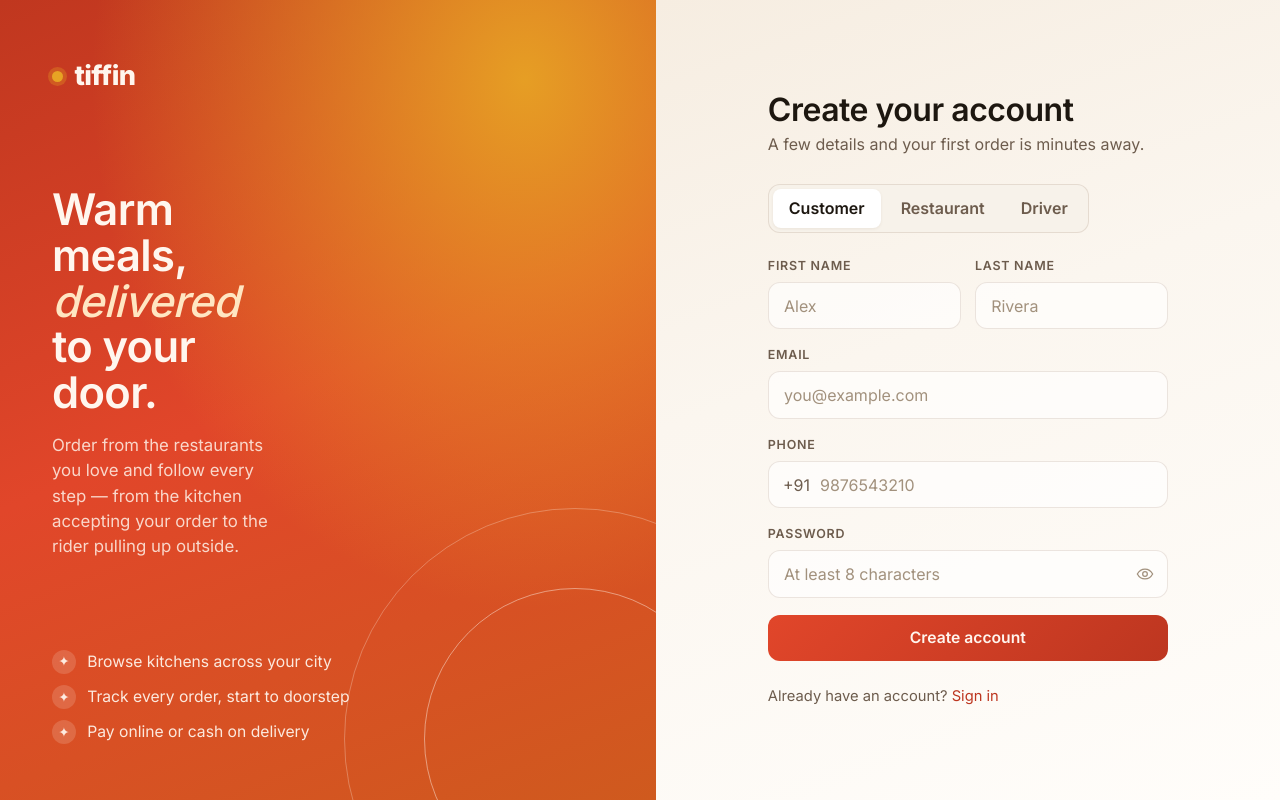
Test: password reveal toggle › reveals the password field on the register page
What coordinates should you click on to do the following:
click the button named "show password"
I would click on:
 (1145, 574)
Its box is [1129,557,1162,591].
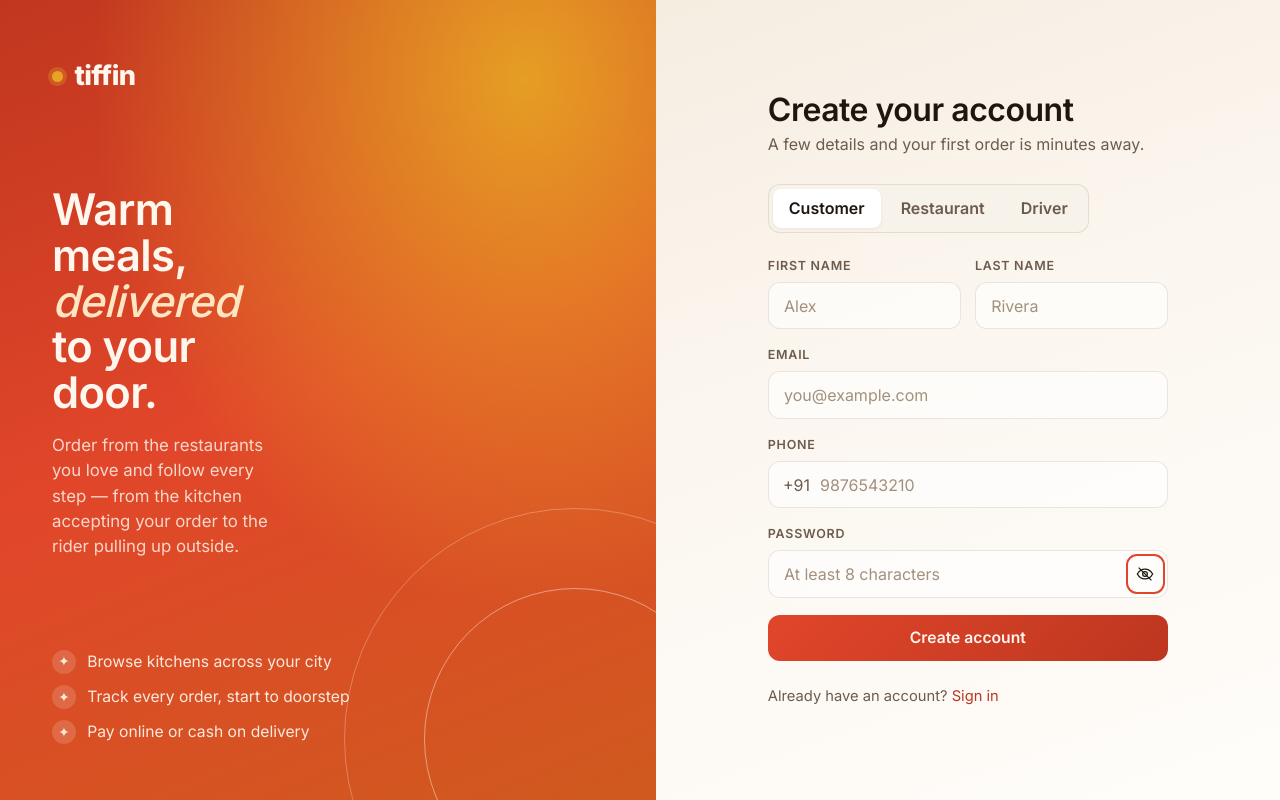
Expected: the button named "hide password" is shown, [1129,557,1162,591]
